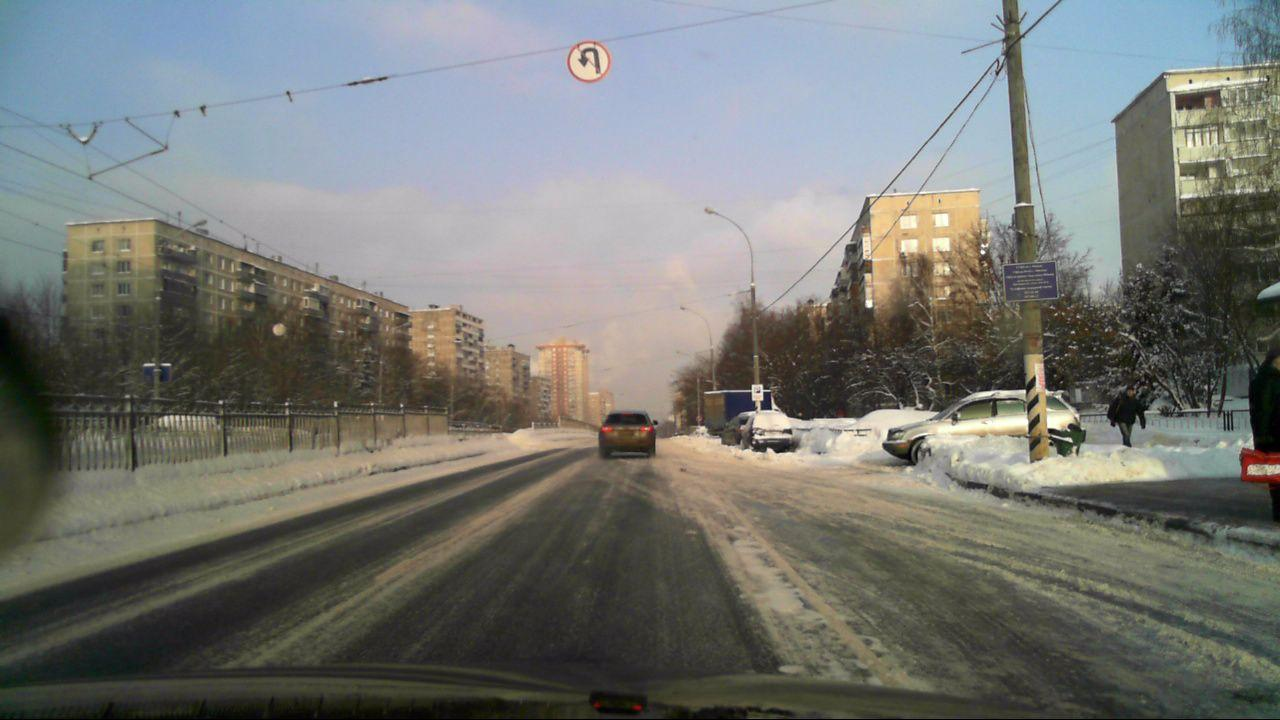3_19: (565, 39, 613, 85)
